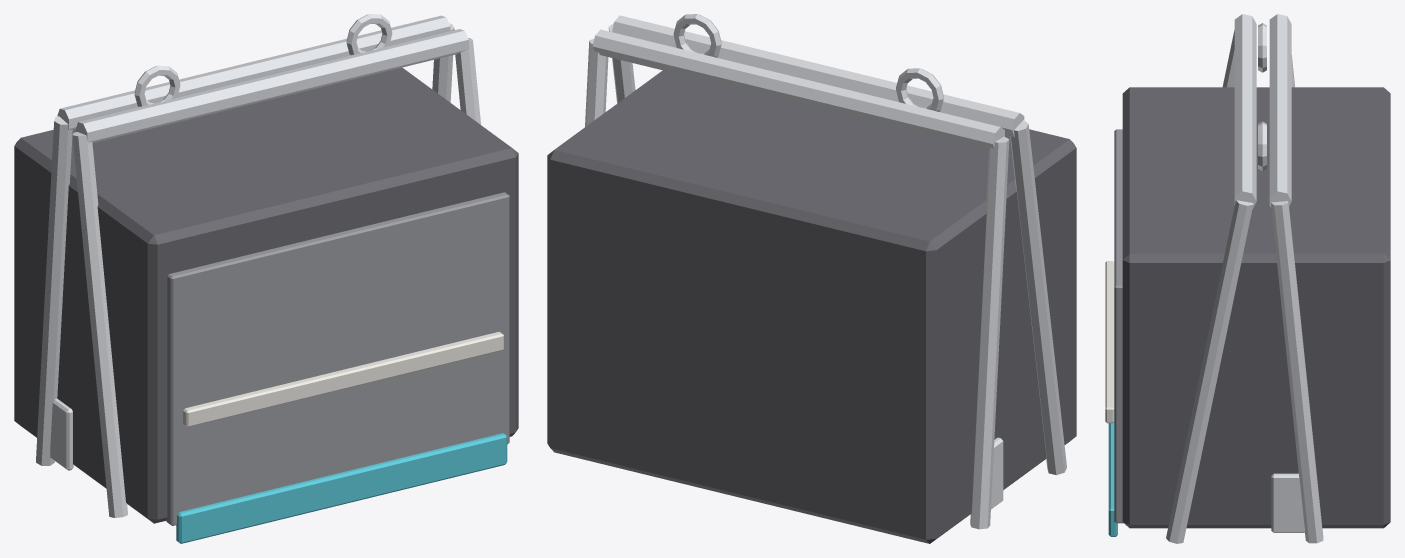
The model's file is nightclub-and-dj-booth-hanging-speaker-c73e7811.glb.
3 views of the same model, side by side, from view 1: azimuth 30°, elevation 25°; view 2: azimuth 150°, elevation 25°; view 3: azimuth 270°, elevation 25° (orthographic). The views are drawn at different scales.
Visible parts, largest first — view 1: hanging-speaker; view 2: hanging-speaker; view 3: hanging-speaker.
Boxes of the visible parts, x1=… form: hanging-speaker: x1=14, y1=14, x2=518, y2=543; hanging-speaker: x1=547, y1=14, x2=1076, y2=543; hanging-speaker: x1=1105, y1=14, x2=1390, y2=543.
Size of the model in its own units: 0.7512 by 0.733 by 0.49.
